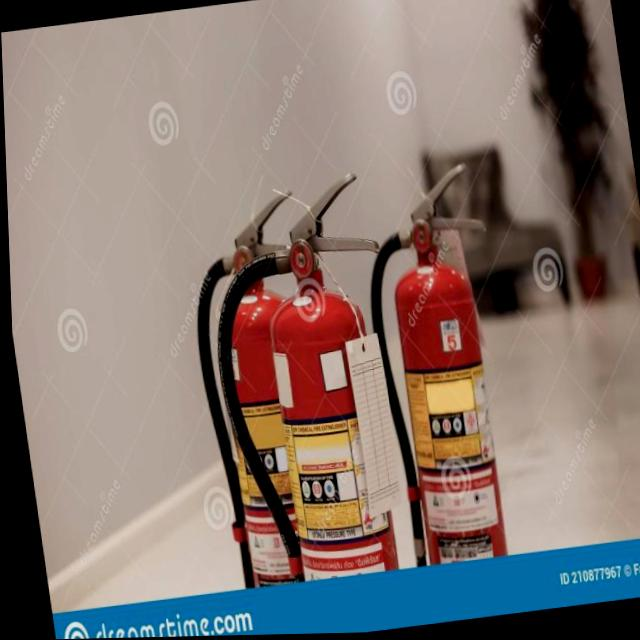FireExtinguisher: (190, 168, 424, 591), (346, 159, 529, 572), (171, 188, 351, 592)
